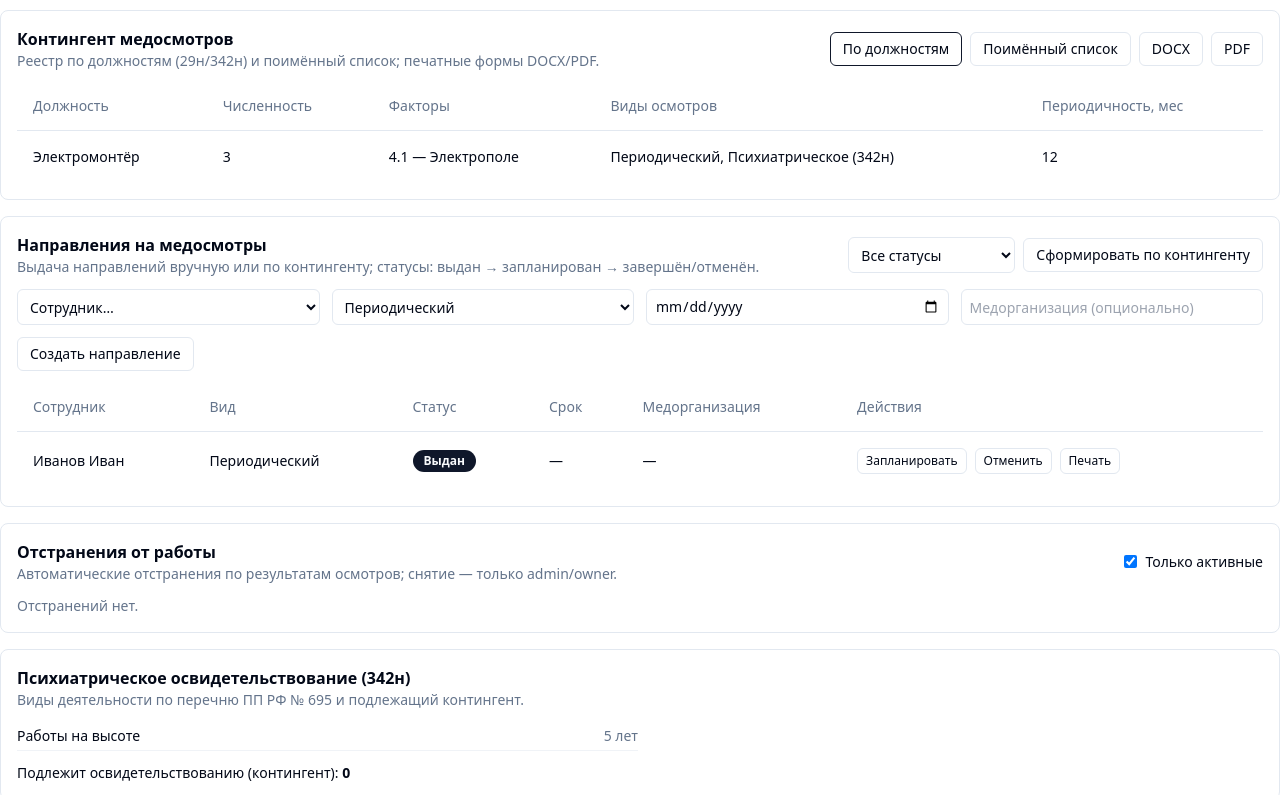
Test: MedicalPage referrals section › surfaces a transition error in the alert region
The image size is (1280, 795).
(page scrolled)
Click the button "Запланировать" at {"x": 912, "y": 460}, box [857, 448, 966, 474]
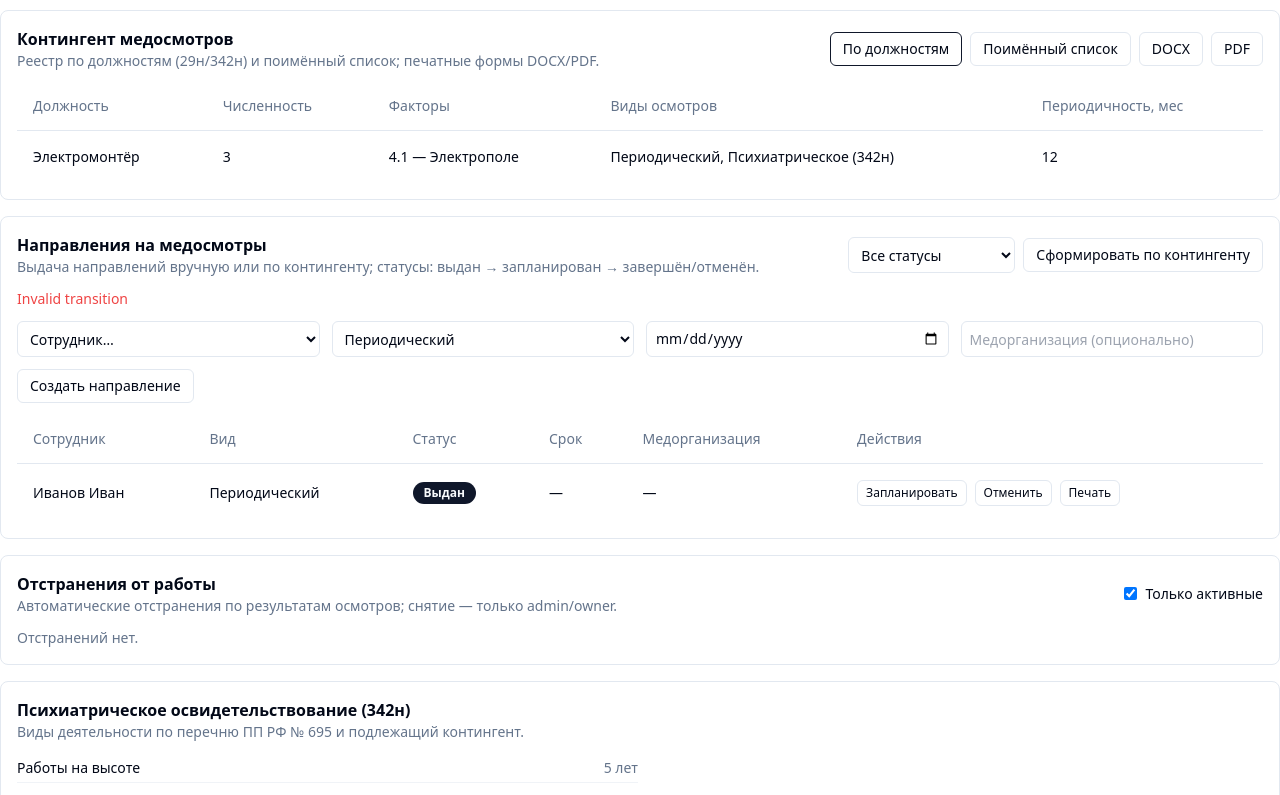
Expected: the message reads "Invalid transition", [17, 289, 128, 308]
